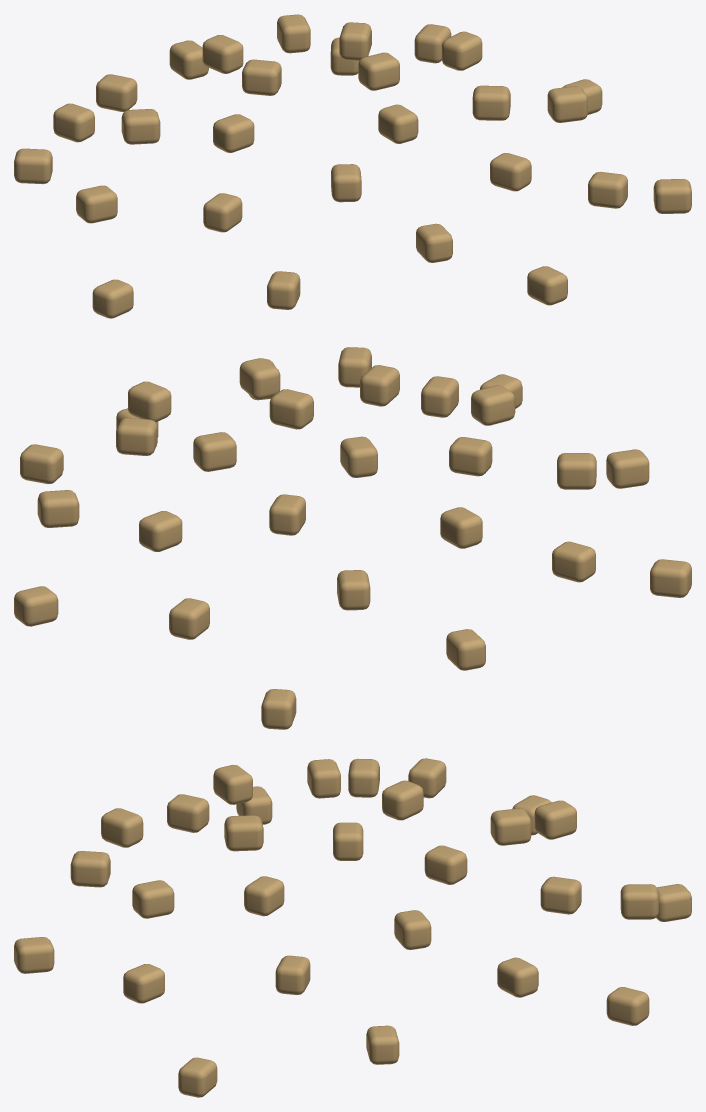
File: Chopped_nuts_serving_layer.fbx
The picture shows the model from 3 angles, top to bottom: view 1: azimuth 30°, elevation 25°; view 2: azimuth 150°, elevation 25°; view 3: azimuth 270°, elevation 25°; orthographic projection. The views are drawn at different scales.
Visible parts, largest first — view 1: Toon_Chopped_nuts_serving_layer Crumb.028, Toon_Chopped_nuts_serving_layer Crumb.045, Toon_Chopped_nuts_serving_layer Crumb.042, Toon_Chopped_nuts_serving_layer Crumb.032, Toon_Chopped_nuts_serving_layer Crumb.038, Toon_Chopped_nuts_serving_layer Crumb.055, Toon_Chopped_nuts_serving_layer Crumb.053, Toon_Chopped_nuts_serving_layer Crumb.034, Toon_Chopped_nuts_serving_layer Crumb.036, Toon_Chopped_nuts_serving_layer Crumb.041, Toon_Chopped_nuts_serving_layer Crumb.051, Toon_Chopped_nuts_serving_layer Crumb.046 (+16 smaller); view 2: Toon_Chopped_nuts_serving_layer Crumb.028, Toon_Chopped_nuts_serving_layer Crumb.035, Toon_Chopped_nuts_serving_layer Crumb.052, Toon_Chopped_nuts_serving_layer Crumb.031, Toon_Chopped_nuts_serving_layer Crumb.048, Toon_Chopped_nuts_serving_layer Crumb.049, Toon_Chopped_nuts_serving_layer Crumb.045, Toon_Chopped_nuts_serving_layer Crumb.032, Toon_Chopped_nuts_serving_layer Crumb.039, Toon_Chopped_nuts_serving_layer Crumb.044, Toon_Chopped_nuts_serving_layer Crumb.037, Toon_Chopped_nuts_serving_layer Crumb.041 (+14 smaller); view 3: Toon_Chopped_nuts_serving_layer Crumb.031, Toon_Chopped_nuts_serving_layer Crumb.052, Toon_Chopped_nuts_serving_layer Crumb.038, Toon_Chopped_nuts_serving_layer Crumb.035, Toon_Chopped_nuts_serving_layer Crumb.042, Toon_Chopped_nuts_serving_layer Crumb.048, Toon_Chopped_nuts_serving_layer Crumb.034, Toon_Chopped_nuts_serving_layer Crumb.039, Toon_Chopped_nuts_serving_layer Crumb.029, Toon_Chopped_nuts_serving_layer Crumb.046, Toon_Chopped_nuts_serving_layer Crumb.044, Toon_Chopped_nuts_serving_layer Crumb.051 (+15 smaller).
Part boxes in pixels (x1=…): Toon_Chopped_nuts_serving_layer Crumb.028: x1=358, y1=52, x2=399, y2=90; Toon_Chopped_nuts_serving_layer Crumb.045: x1=76, y1=185, x2=117, y2=223; Toon_Chopped_nuts_serving_layer Crumb.042: x1=96, y1=74, x2=137, y2=111; Toon_Chopped_nuts_serving_layer Crumb.032: x1=213, y1=114, x2=254, y2=152; Toon_Chopped_nuts_serving_layer Crumb.038: x1=490, y1=153, x2=531, y2=191; Toon_Chopped_nuts_serving_layer Crumb.055: x1=53, y1=103, x2=94, y2=142; Toon_Chopped_nuts_serving_layer Crumb.053: x1=92, y1=279, x2=133, y2=318; Toon_Chopped_nuts_serving_layer Crumb.034: x1=202, y1=35, x2=243, y2=73; Toon_Chopped_nuts_serving_layer Crumb.036: x1=441, y1=31, x2=482, y2=70; Toon_Chopped_nuts_serving_layer Crumb.041: x1=547, y1=86, x2=587, y2=122; Toon_Chopped_nuts_serving_layer Crumb.051: x1=527, y1=266, x2=567, y2=305; Toon_Chopped_nuts_serving_layer Crumb.046: x1=588, y1=171, x2=627, y2=208; Toon_Chopped_nuts_serving_layer Crumb.028: x1=269, y1=389, x2=313, y2=429; Toon_Chopped_nuts_serving_layer Crumb.035: x1=471, y1=385, x2=515, y2=425; Toon_Chopped_nuts_serving_layer Crumb.052: x1=14, y1=586, x2=58, y2=626; Toon_Chopped_nuts_serving_layer Crumb.031: x1=193, y1=432, x2=236, y2=471; Toon_Chopped_nuts_serving_layer Crumb.048: x1=606, y1=449, x2=649, y2=488; Toon_Chopped_nuts_serving_layer Crumb.049: x1=20, y1=444, x2=63, y2=483; Toon_Chopped_nuts_serving_layer Crumb.045: x1=552, y1=541, x2=595, y2=582; Toon_Chopped_nuts_serving_layer Crumb.032: x1=449, y1=437, x2=492, y2=476; Toon_Chopped_nuts_serving_layer Crumb.039: x1=139, y1=511, x2=182, y2=551; Toon_Chopped_nuts_serving_layer Crumb.044: x1=37, y1=490, x2=79, y2=527; Toon_Chopped_nuts_serving_layer Crumb.037: x1=440, y1=507, x2=482, y2=548; Toon_Chopped_nuts_serving_layer Crumb.041: x1=128, y1=381, x2=171, y2=422; Toon_Chopped_nuts_serving_layer Crumb.031: x1=424, y1=845, x2=467, y2=884; Toon_Chopped_nuts_serving_layer Crumb.052: x1=606, y1=987, x2=649, y2=1025; Toon_Chopped_nuts_serving_layer Crumb.038: x1=132, y1=880, x2=174, y2=918; Toon_Chopped_nuts_serving_layer Crumb.035: x1=167, y1=794, x2=209, y2=832; Toon_Chopped_nuts_serving_layer Crumb.042: x1=534, y1=800, x2=576, y2=839; Toon_Chopped_nuts_serving_layer Crumb.048: x1=101, y1=808, x2=143, y2=847; Toon_Chopped_nuts_serving_layer Crumb.034: x1=490, y1=808, x2=531, y2=845; Toon_Chopped_nuts_serving_layer Crumb.039: x1=540, y1=876, x2=581, y2=914; Toon_Chopped_nuts_serving_layer Crumb.029: x1=382, y1=780, x2=423, y2=820; Toon_Chopped_nuts_serving_layer Crumb.046: x1=123, y1=964, x2=164, y2=1003; Toon_Chopped_nuts_serving_layer Crumb.044: x1=497, y1=957, x2=538, y2=997; Toon_Chopped_nuts_serving_layer Crumb.051: x1=14, y1=937, x2=54, y2=973.
Bounding box in the file's own units: 8.78 × 2.35 × 8.92.
